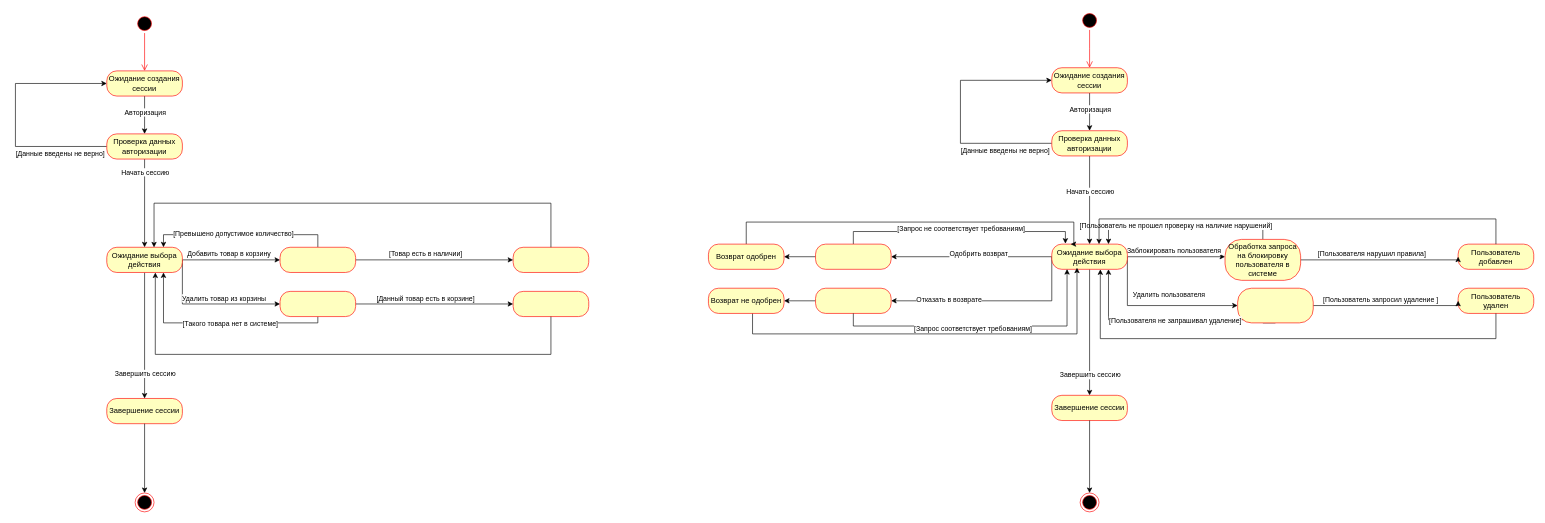
This 1545x523 diagram has some shape labels left out. The shapes that lost their labels are listed below. From the top down, each one's centre as x and y in pixels, then its label:
At (x=317, y=259): "Обработка запроса на добавление".
At (x=551, y=259): "Товар Добавлен".
At (x=853, y=256): "Обработка запроса на одобрение возврата".
At (x=317, y=304): "Обработка запроса на удаление".
At (x=551, y=304): "Товар Удален".
At (x=853, y=300): "Обработка запроса на отказ возврата".
At (x=1275, y=305): "Обработка запроса на удаление пользоваетля из системы".
